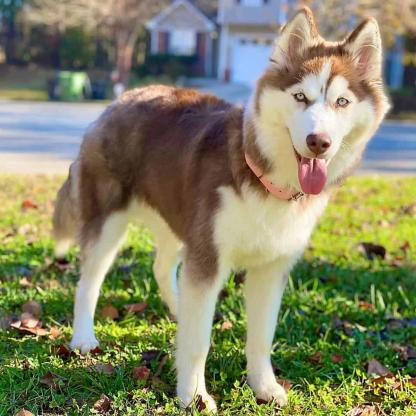husky: (47, 1, 393, 406)
